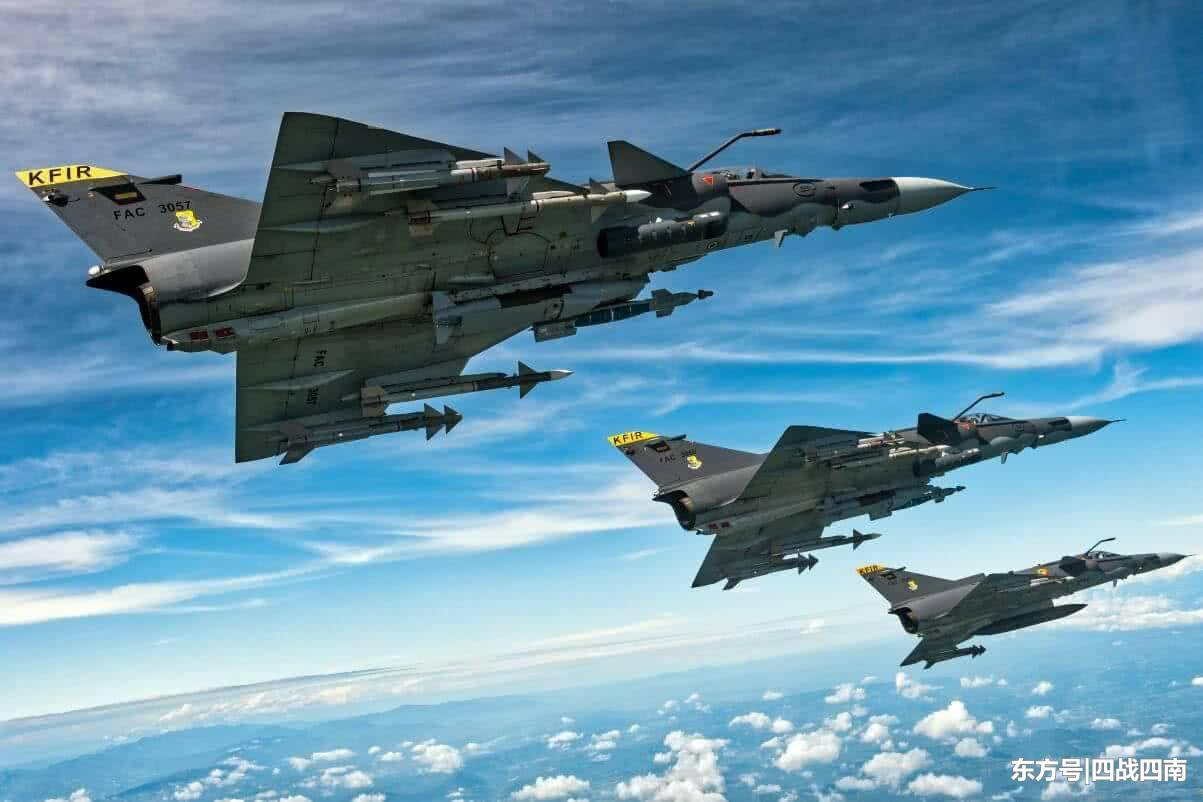airplane: (6, 108, 993, 467), (609, 356, 1112, 584), (845, 530, 1196, 669)
